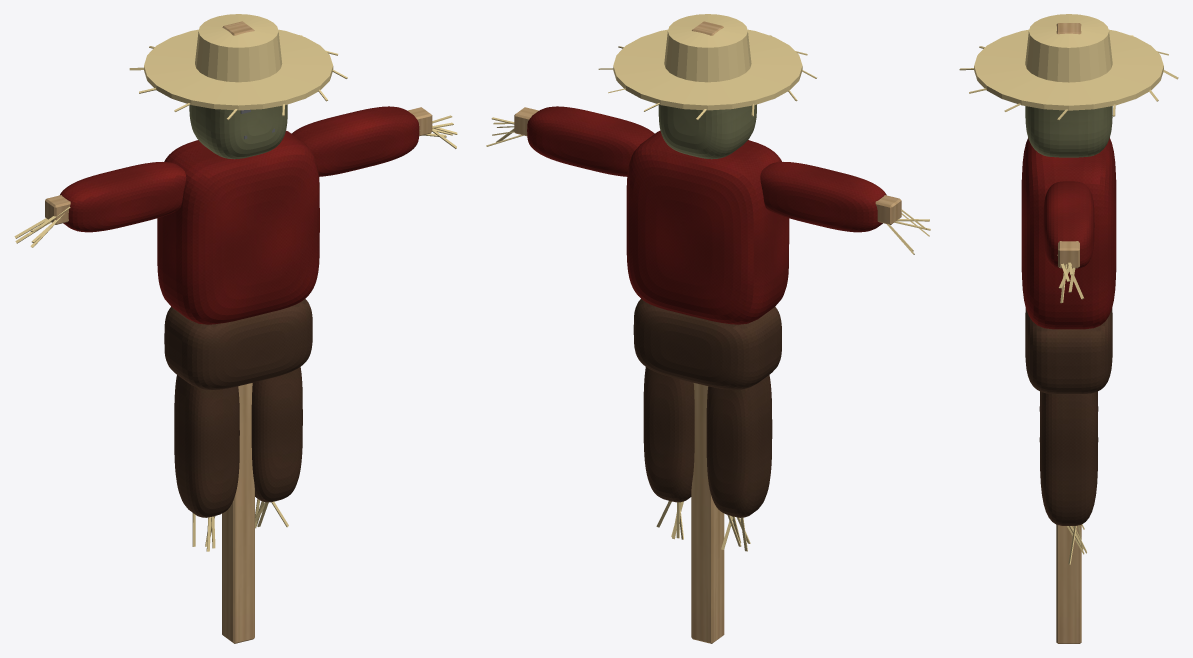
The model's file is espantalho.glb.
3 renders of one model, left to right at view 1: azimuth 30°, elevation 25°; view 2: azimuth 150°, elevation 25°; view 3: azimuth 270°, elevation 25°, orthographic.
Visible parts, largest first — view 1: espantalho_xadrez, espantalho_pano_espantalho, espantalho_palha, espantalho_madeira_crua, espantalho_lona; view 2: espantalho_xadrez, espantalho_pano_espantalho, espantalho_palha, espantalho_madeira_crua, espantalho_lona; view 3: espantalho_xadrez, espantalho_palha, espantalho_pano_espantalho, espantalho_lona, espantalho_madeira_crua.
Boxes of the visible parts, bbox=[...] form: espantalho_xadrez: bbox=[60, 106, 419, 324]; espantalho_pano_espantalho: bbox=[164, 299, 312, 517]; espantalho_palha: bbox=[14, 14, 457, 551]; espantalho_madeira_crua: bbox=[45, 21, 432, 643]; espantalho_lona: bbox=[189, 104, 287, 159]; espantalho_xadrez: bbox=[527, 106, 886, 324]; espantalho_pano_espantalho: bbox=[633, 299, 781, 517]; espantalho_palha: bbox=[486, 14, 930, 551]; espantalho_madeira_crua: bbox=[514, 21, 901, 643]; espantalho_lona: bbox=[658, 104, 756, 159]; espantalho_xadrez: bbox=[1021, 138, 1116, 329]; espantalho_palha: bbox=[959, 14, 1178, 564]; espantalho_pano_espantalho: bbox=[1025, 308, 1112, 525]; espantalho_lona: bbox=[1025, 106, 1112, 157]; espantalho_madeira_crua: bbox=[1056, 23, 1081, 643].
Bounding box in the file's own units: 1.36 × 1.85 × 0.6008.
Materials: 6 (4 with a texture image).
